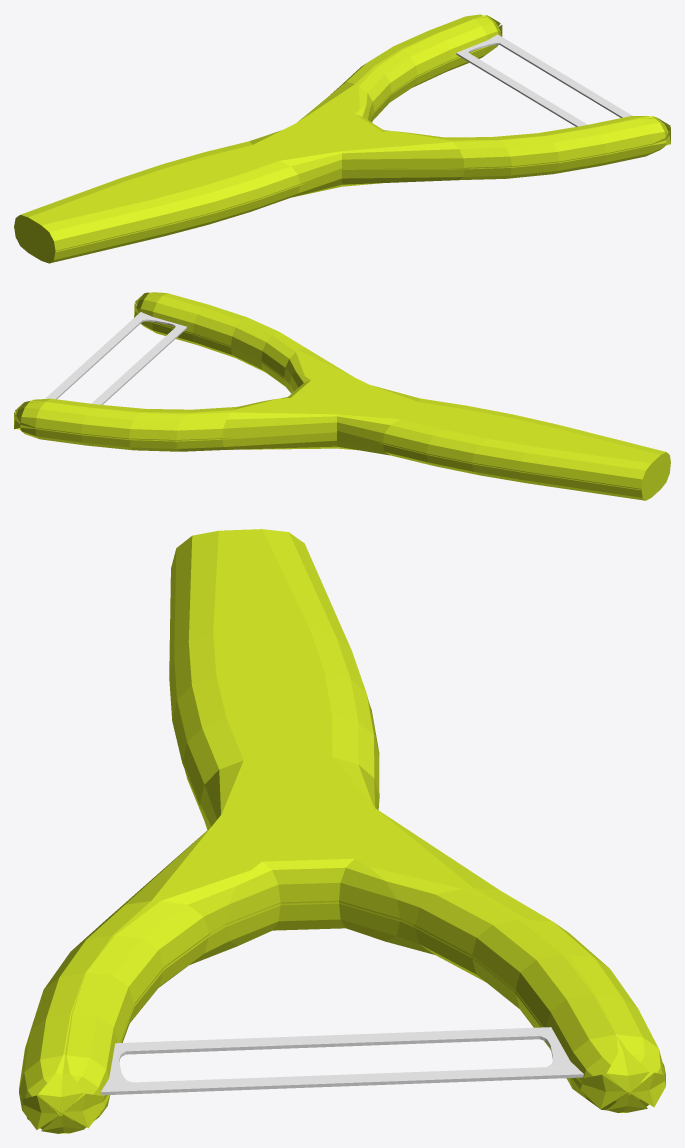
3 views of the same model, one above another, from view 1: azimuth 30°, elevation 25°; view 2: azimuth 150°, elevation 25°; view 3: azimuth 270°, elevation 25° (orthographic). The views are drawn at different scales.
Parts seen in each view (by area): view 1: Box001, Box002; view 2: Box001, Box002; view 3: Box001, Box002.
Part boxes in pixels (x1,y1,x2,y2): Box001: (14, 14, 670, 263); Box002: (456, 34, 632, 126); Box001: (14, 292, 670, 500); Box002: (45, 312, 187, 404); Box001: (19, 529, 665, 1133); Box002: (100, 1027, 583, 1095).
Bounding box in the file's own units: 757381 × 43752 × 374391.
